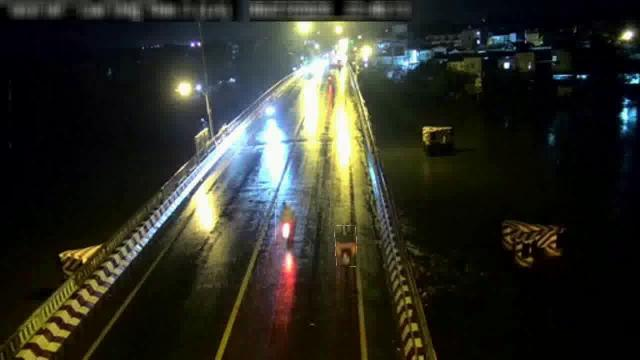Bike: (275, 201, 297, 241), (335, 226, 357, 266)
